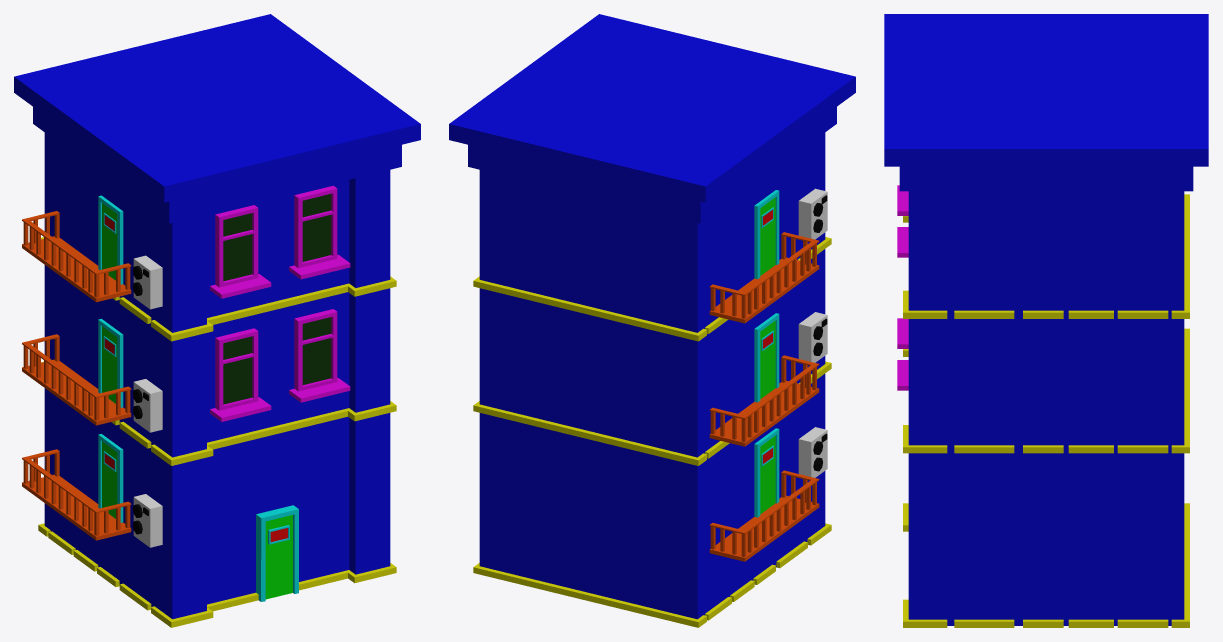
File: Building_F.fbx
3 renders of one model, left to right at view 1: azimuth 30°, elevation 25°; view 2: azimuth 150°, elevation 25°; view 3: azimuth 270°, elevation 25°, orthographic. The views are drawn at different scales.
Parts seen in each view (by area): view 1: Building_F; view 2: Building_F; view 3: Building_F.
Boxes of the visible parts, bbox=[...] form: Building_F: bbox=[14, 14, 420, 627]; Building_F: bbox=[449, 14, 855, 627]; Building_F: bbox=[884, 14, 1208, 627].
Bounding box in the file's own units: 788 × 1248 × 752.
